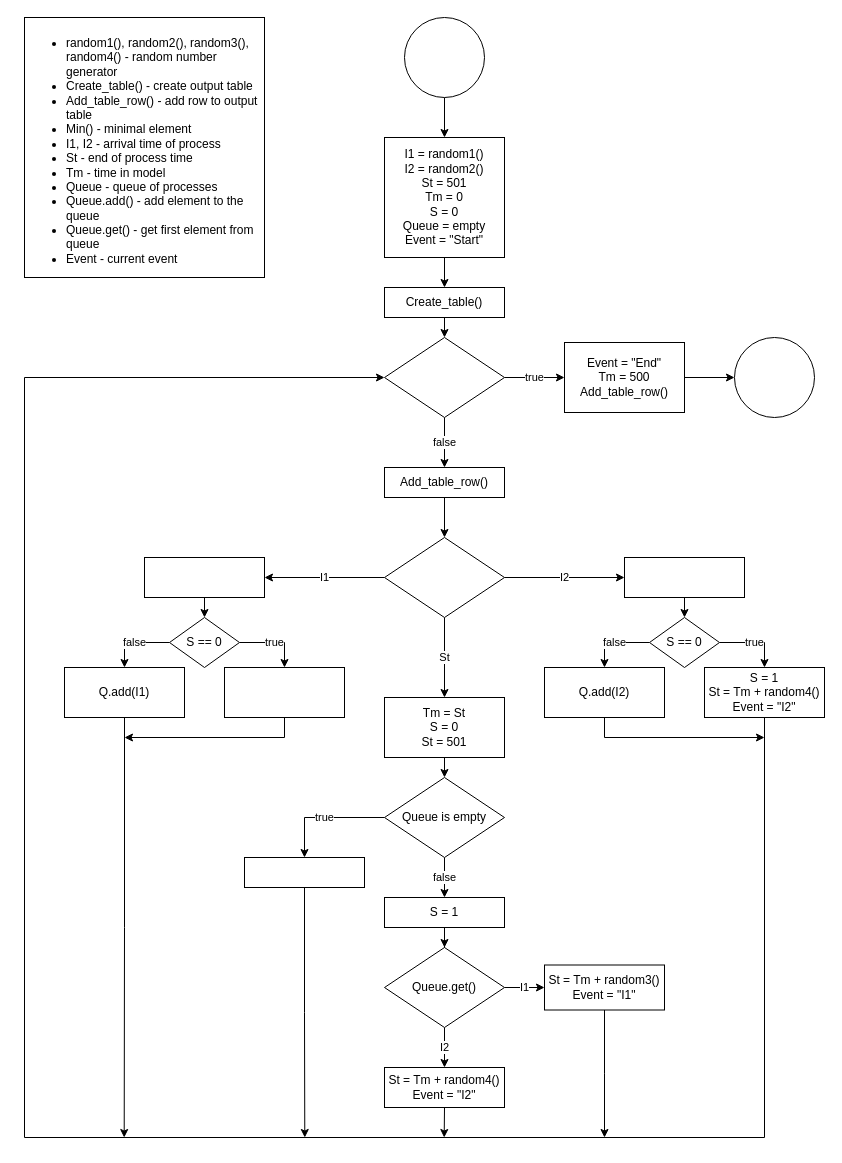
The diagram is 842 pixels wide and 1163 high, and some of its shapes have lost their labels. Here are the shapes that lost their labels. From the top down, the centre of each, then its label:
the point at 444,57: Start
the point at 444,377: Tm >= 500
the point at 774,377: End
the point at 204,577: Tm = I1 I1 = Tm + random1()
the point at 444,577: Min(I1, I2, St)
the point at 684,577: Tm = I2 I2 = Tm + random2()
the point at 284,692: S = 1 St = Tm + random3() Event = "I1"
the point at 304,872: Event = "Waiting"
